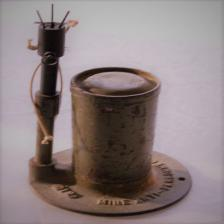M2A1: (14, 11, 200, 216)
